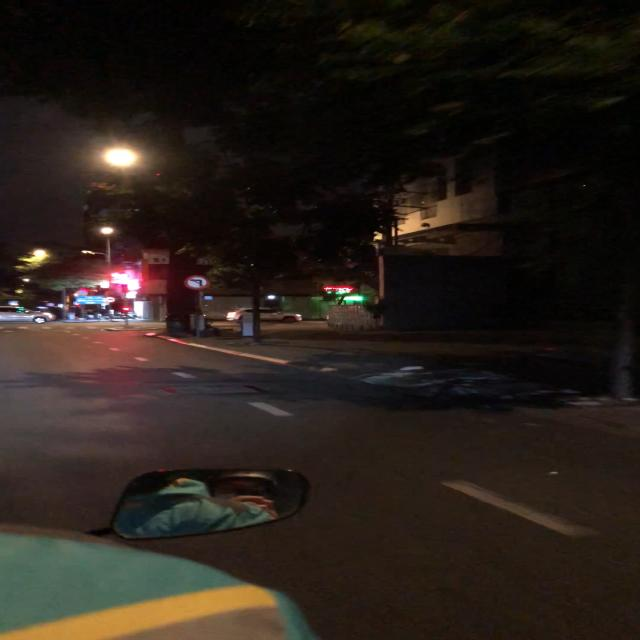Bien bao cam re trai: (181, 272, 217, 291)
